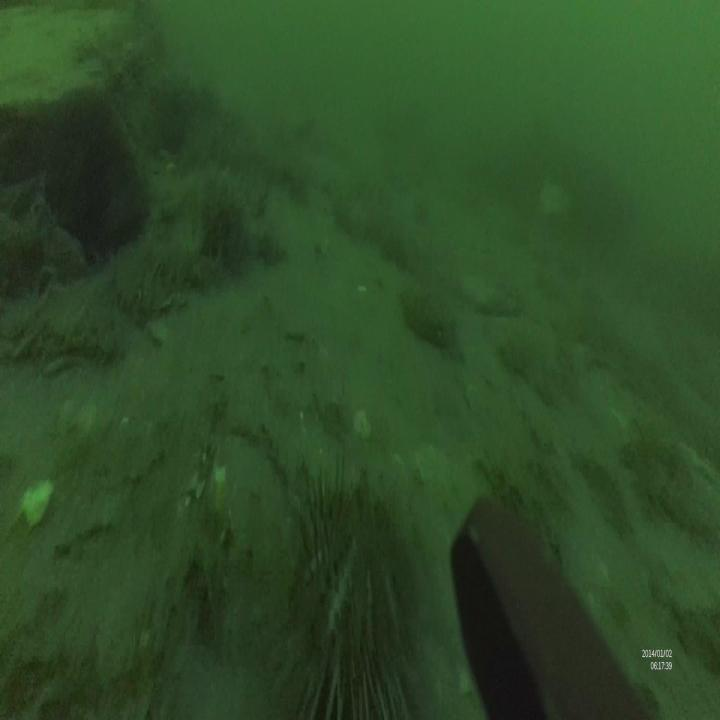echinus: (274, 464, 417, 720)
holothurian: (11, 310, 125, 371), (107, 273, 191, 324), (153, 242, 233, 290)
